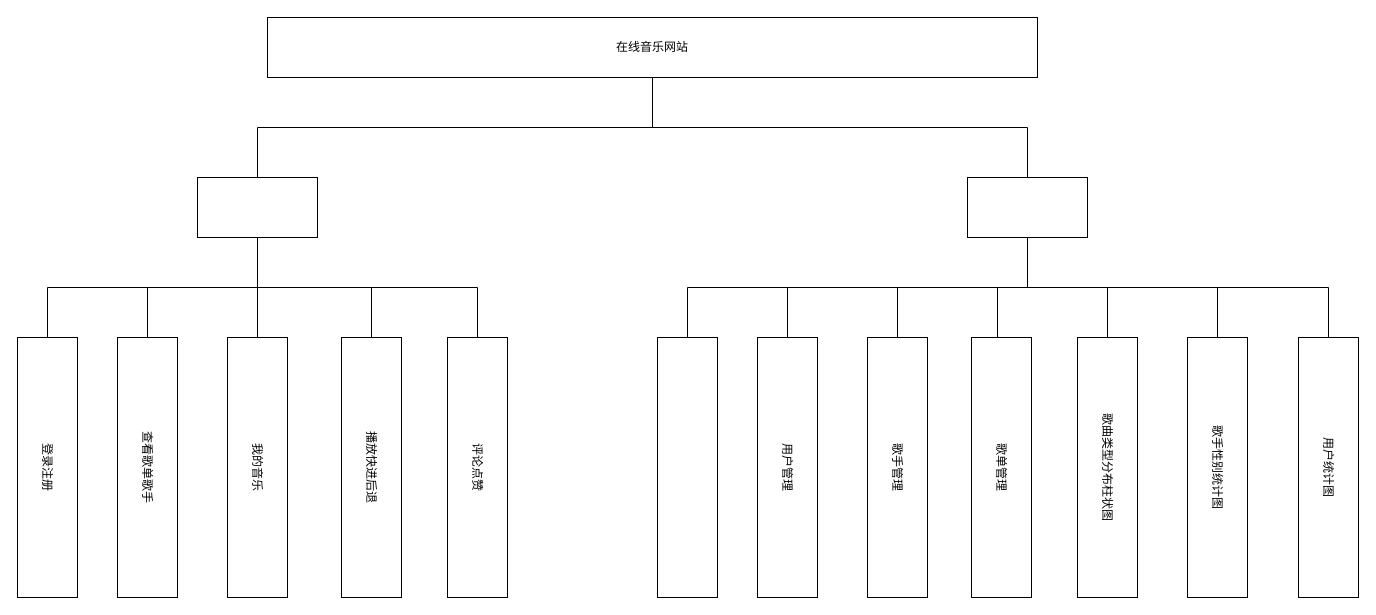
Some shapes in this 1376 by 615 pixel diagram are drawn without their labels. The shapes that lost their labels are listed below. From the top down, each one's centre as x and y in pixels, then its label:
At (257,207): "用户".
At (1027,207): "管理员".
At (687,467): "系统首页".
